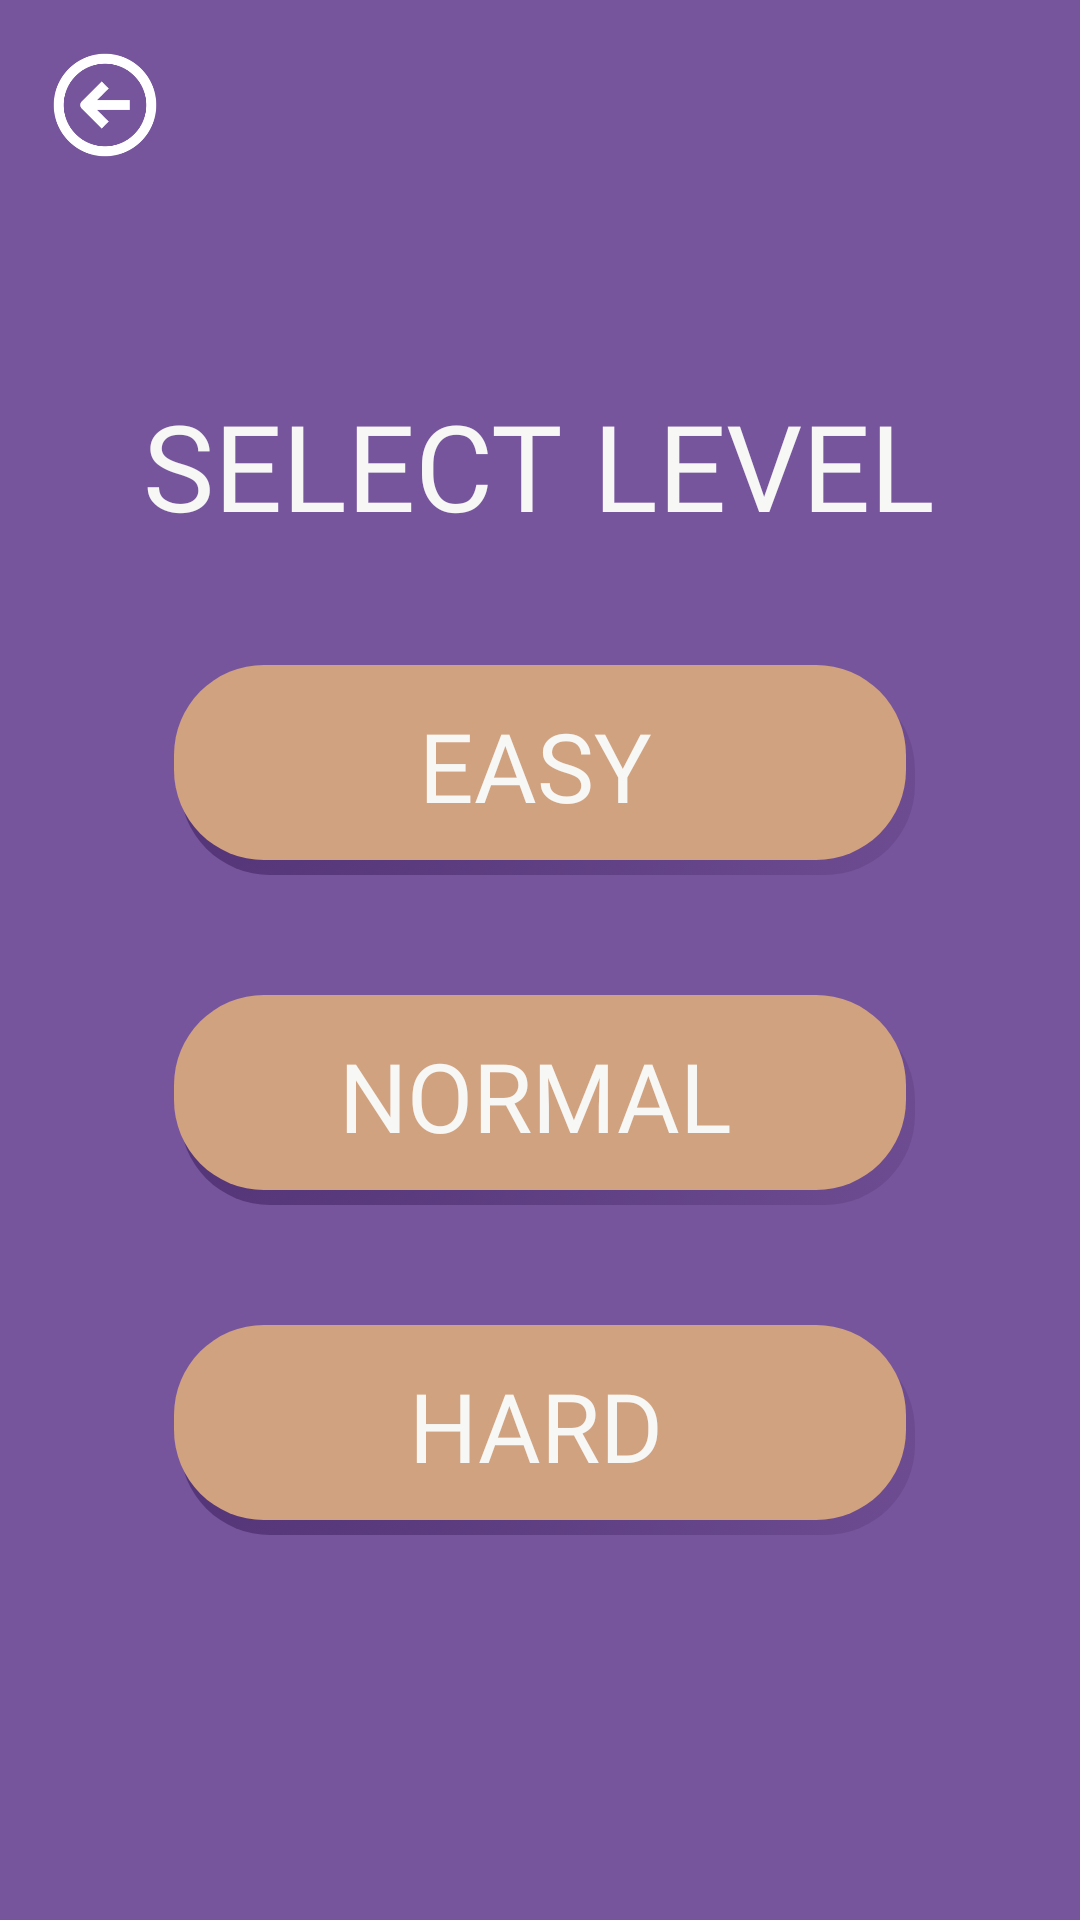

Icons on this 1080w x 1920h Android screen, each with the point to tap as [x,y]:
backward: [105,105]
